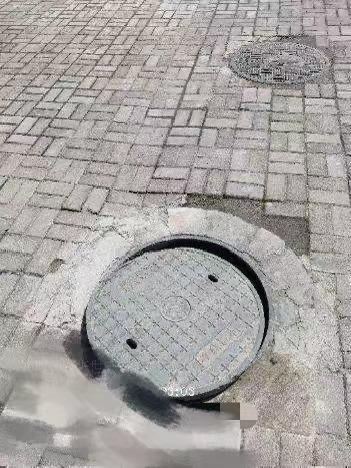wellcover: (81, 230, 281, 407), (229, 38, 340, 86)
